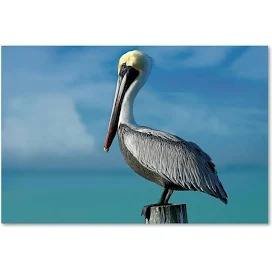pelican: (104, 50, 228, 211)
